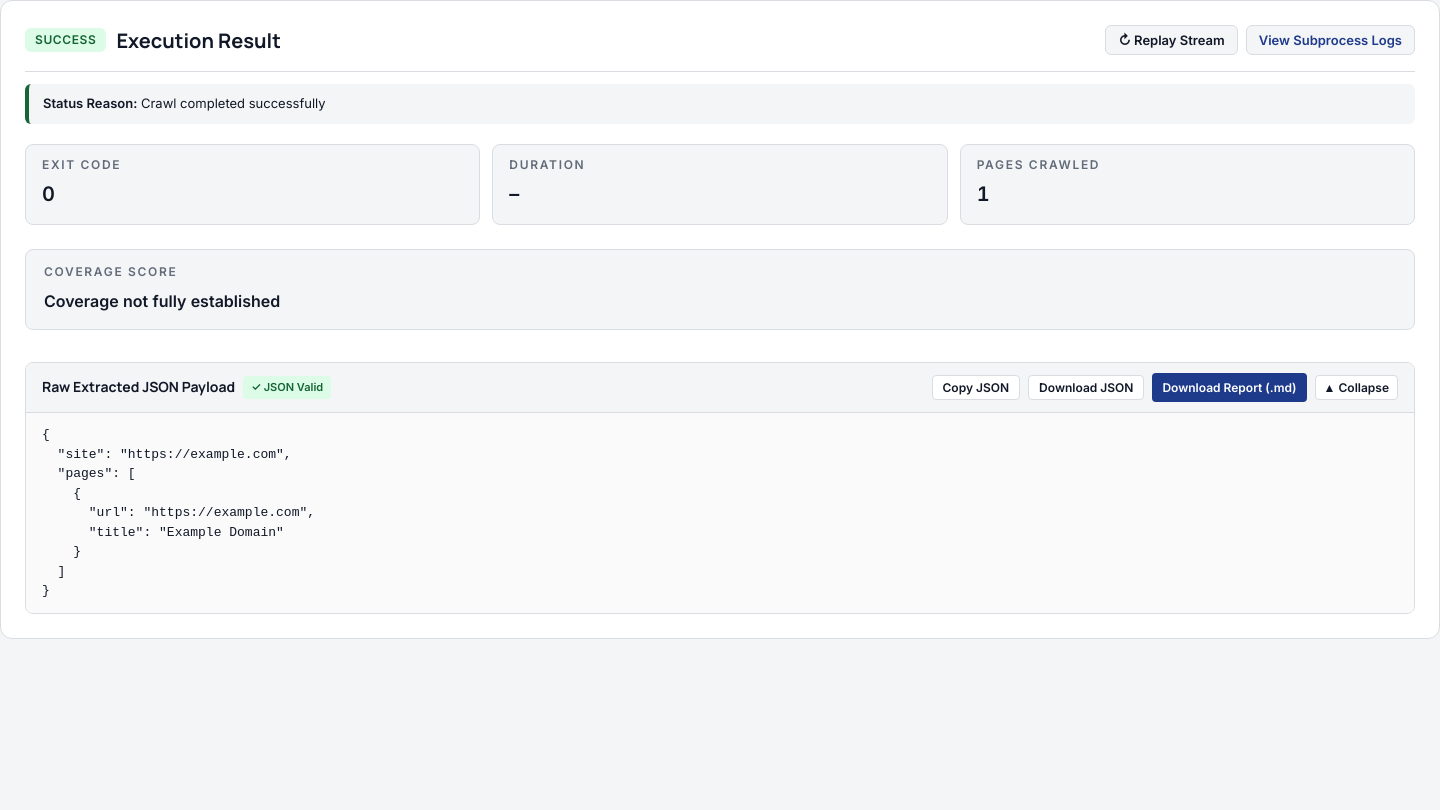
Scenario: Timeline DNS Failure & Step States › renders Raw Extracted JSON Payload section expanded by default with JSON visible immediately
The width and height of the screenshot is (1440, 810).
Expected: the text "▼ Expand" is not shown
Expected: the text with class "monospace-view" shows "https://example.com", [42,427,315,598]
Step 1. Click the button "▲ Collapse" → coordinates (1356, 388), box [1315,375,1398,400]
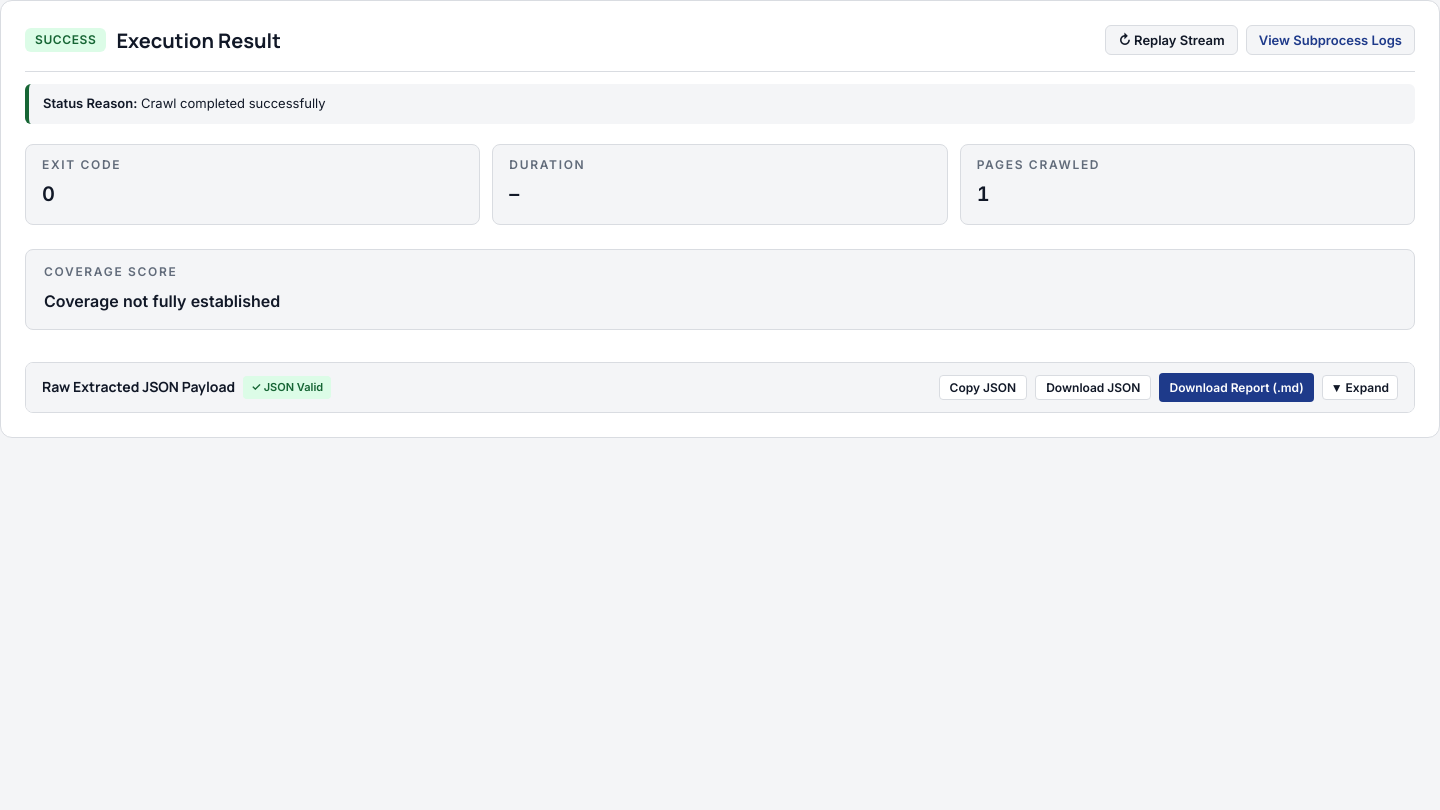
Expected: the text "▼ Expand" is shown
Expected: the text with class "monospace-view" is gone
Step 2. Click the button "▼ Expand" → coordinates (1360, 388), box [1322,375,1398,400]
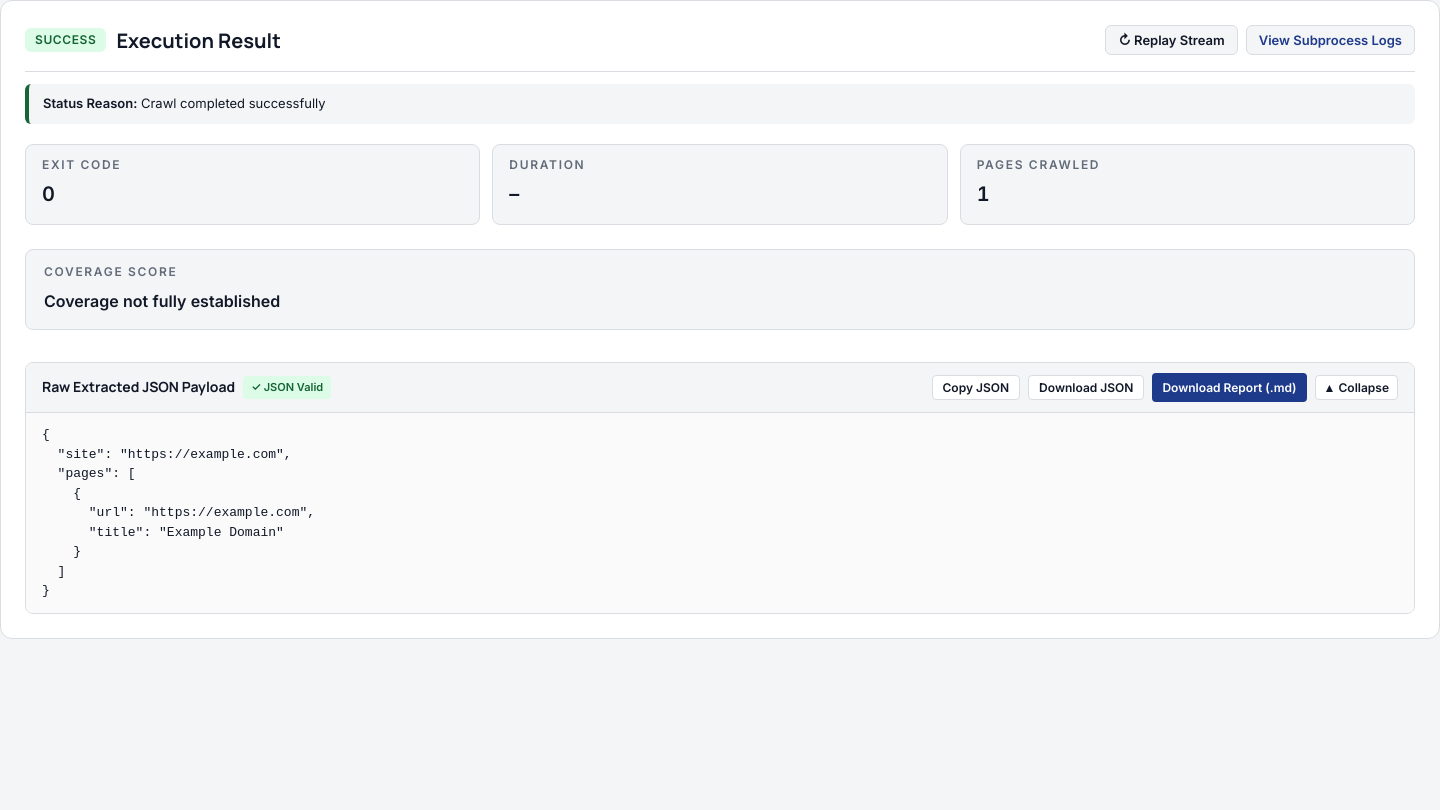
Expected: the text "▲ Collapse" is shown, [1315,375,1398,400]
Expected: the text with class "monospace-view" is shown, [42,427,315,598]
